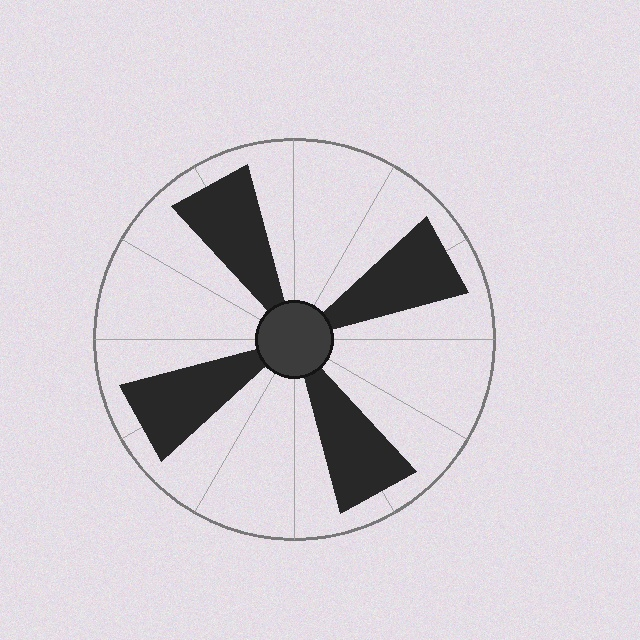fan: (89, 134, 499, 544)
